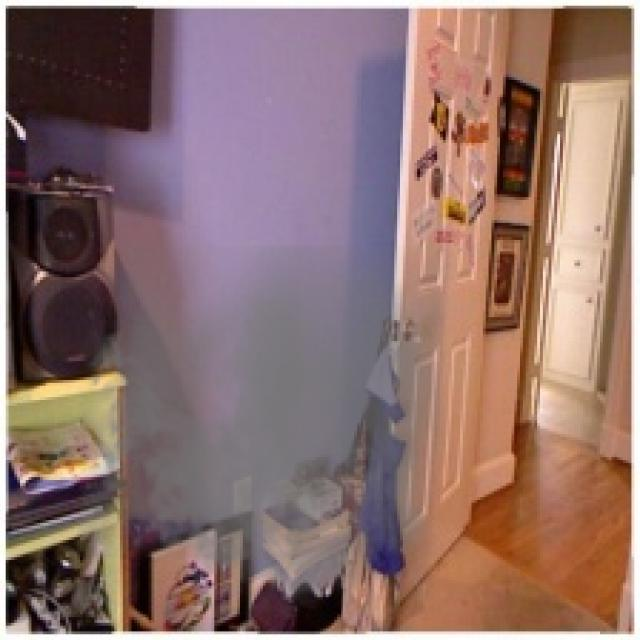Smoke: (77, 245, 446, 620)
